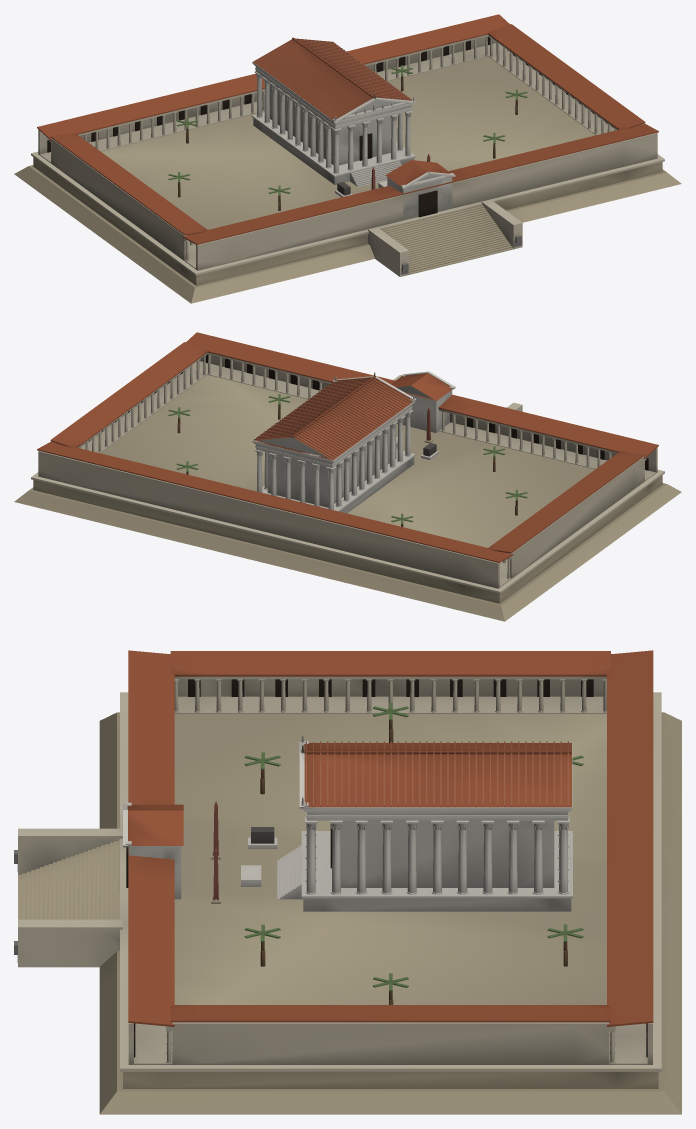
The model's file is serapeum.glb.
3 renders of one model, top to bottom at view 1: azimuth 30°, elevation 25°; view 2: azimuth 150°, elevation 25°; view 3: azimuth 270°, elevation 25°, orthographic. The views are drawn at different scales.
Visible parts, largest first — view 1: p0_platform, p1_colonnades, p3_roof, p2_temple; view 2: p0_platform, p1_colonnades, p3_roof, p2_temple; view 3: p0_platform, p1_colonnades, p2_temple, p3_roof.
Boxes of the visible parts, bbox=[...] form: p0_platform: bbox=[14, 57, 681, 303]; p1_colonnades: bbox=[37, 14, 658, 270]; p3_roof: bbox=[168, 37, 527, 201]; p2_temple: bbox=[251, 71, 430, 197]; p0_platform: bbox=[14, 375, 681, 621]; p1_colonnades: bbox=[37, 332, 658, 588]; p3_roof: bbox=[168, 372, 527, 526]; p2_temple: bbox=[254, 407, 438, 513]; p0_platform: bbox=[14, 692, 681, 1114]; p1_colonnades: bbox=[122, 650, 653, 1064]; p2_temple: bbox=[211, 801, 572, 911]; p3_roof: bbox=[244, 702, 583, 1000].
Bounding box in the file's own units: 160 × 32.81 × 115.
